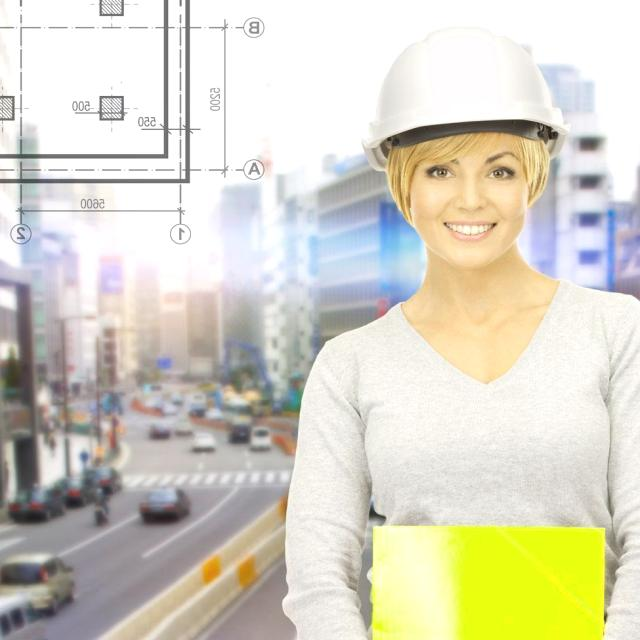face_nomask: (397, 146, 538, 277)
head_helmet: (354, 22, 574, 150)
person: (272, 0, 637, 628)
